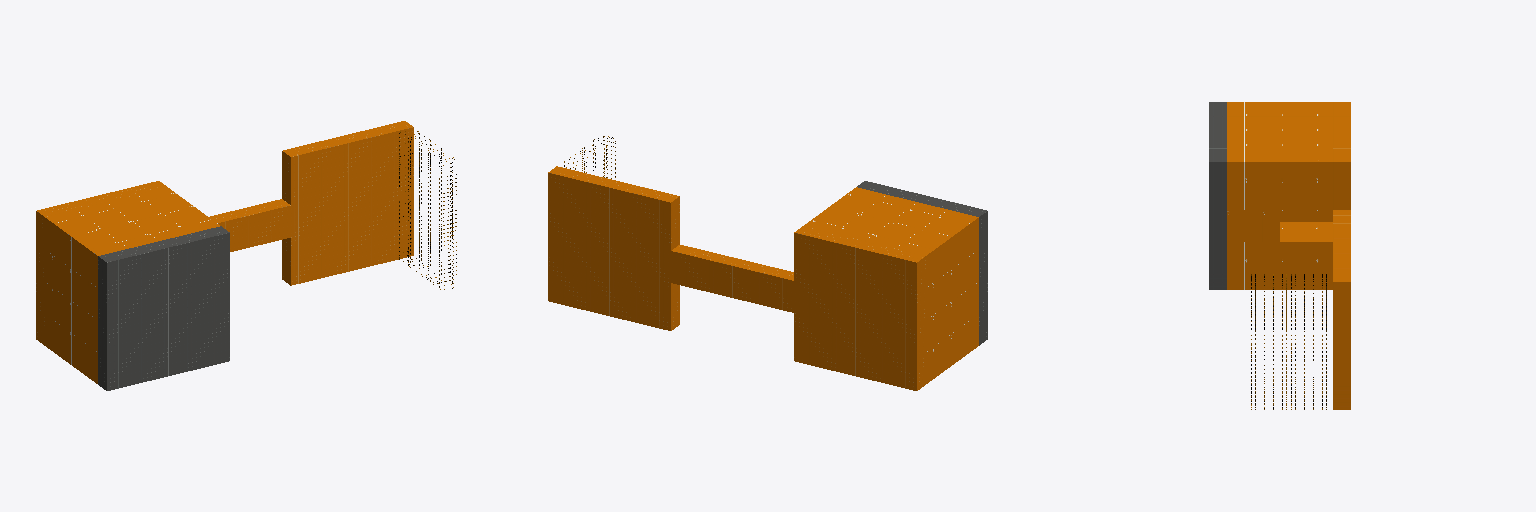
3 renders of one model, left to right at view 1: azimuth 30°, elevation 25°; view 2: azimuth 150°, elevation 25°; view 3: azimuth 270°, elevation 25°, orthographic.
Visible parts, largest first — view 1: 2, 59, 15, 19, 54, 5, 79; view 2: 5, 59, 15, 19, 54, 2; view 3: 15, 43, 26, 2, 59, 5, 48, 9, 79, 19.
Boxes of the visible parts, <box> form: 2: <box>98,226,229,390</box>; 59: <box>282,121,413,285</box>; 15: <box>45,187,219,271</box>; 19: <box>45,217,112,382</box>; 54: <box>209,199,290,251</box>; 5: <box>36,181,166,345</box>; 79: <box>399,131,456,289</box>; 5: <box>794,226,925,390</box>; 59: <box>548,166,679,330</box>; 15: <box>804,187,978,271</box>; 19: <box>911,218,978,382</box>; 54: <box>671,245,793,312</box>; 2: <box>857,181,987,345</box>; 15: <box>1227,102,1332,177</box>; 43: <box>1227,154,1332,209</box>; 26: <box>1227,235,1332,289</box>; 2: <box>1209,102,1226,289</box>; 59: <box>1333,222,1350,409</box>; 5: <box>1333,102,1350,209</box>; 48: <box>1227,210,1279,241</box>; 9: <box>1227,222,1332,289</box>; 79: <box>1251,274,1326,409</box>; 19: <box>1227,102,1332,221</box>.
Bounding box in the file's own units: 1536 × 512 × 512.
Materials: 4 (4 with a texture image).